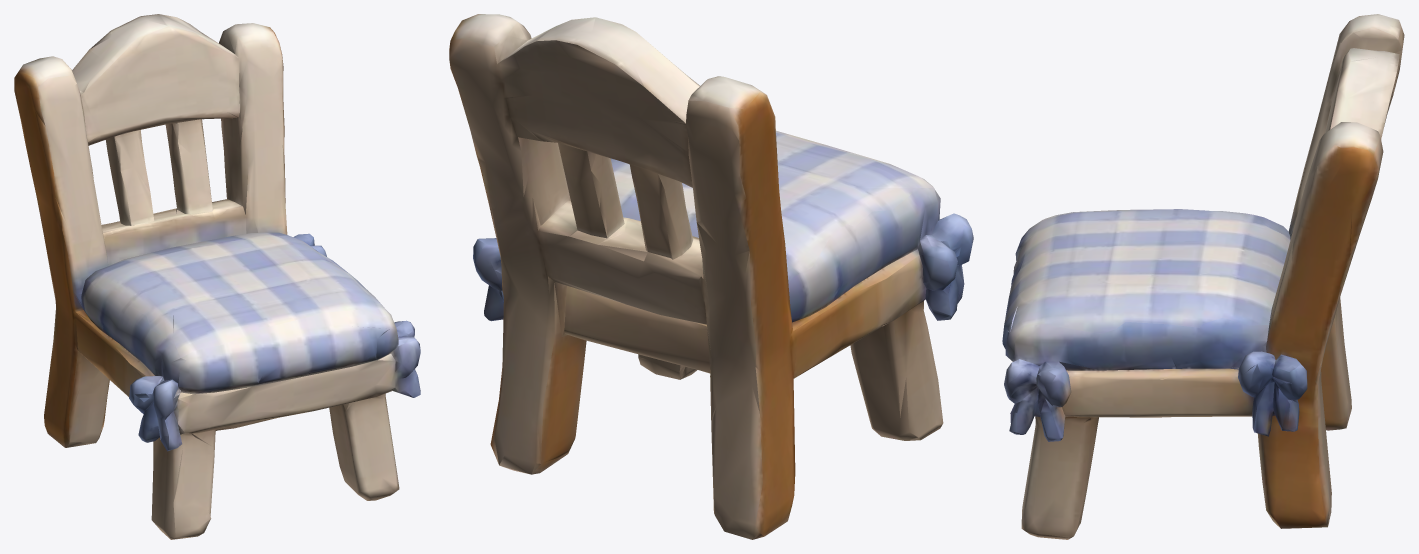
File: chair10.glb
The picture shows the model from 3 angles, left to right: view 1: azimuth 30°, elevation 25°; view 2: azimuth 150°, elevation 25°; view 3: azimuth 270°, elevation 25°; orthographic projection. The views are drawn at different scales.
Size of the model in its own units: 0.1772 by 0.2366 by 0.1986.
Materials: 1 (1 with a texture image).
